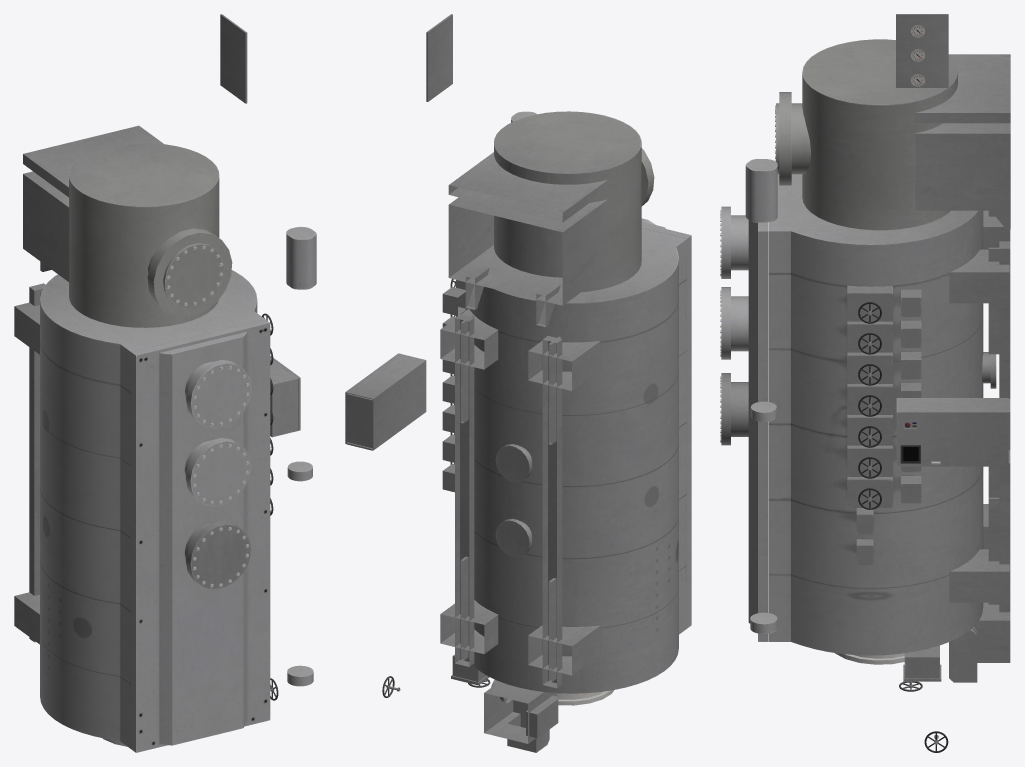
Rendered from turbine_machine.obj.
3 views of the same model, side by side, from view 1: azimuth 30°, elevation 25°; view 2: azimuth 150°, elevation 25°; view 3: azimuth 270°, elevation 25° (orthographic). The views are drawn at different scales.
Parts seen in each view (by area): view 1: turbine_machine_main_machine_01; view 2: turbine_machine_main_machine_01; view 3: turbine_machine_main_machine_01.
Boxes of the visible parts, bbox=[...] form: turbine_machine_main_machine_01: bbox=[14, 14, 316, 752]; turbine_machine_main_machine_01: bbox=[345, 14, 691, 752]; turbine_machine_main_machine_01: bbox=[720, 14, 1010, 752].
Size of the model in its own units: 3.28 by 8.37 by 3.08.
2 materials, 2 textured.
